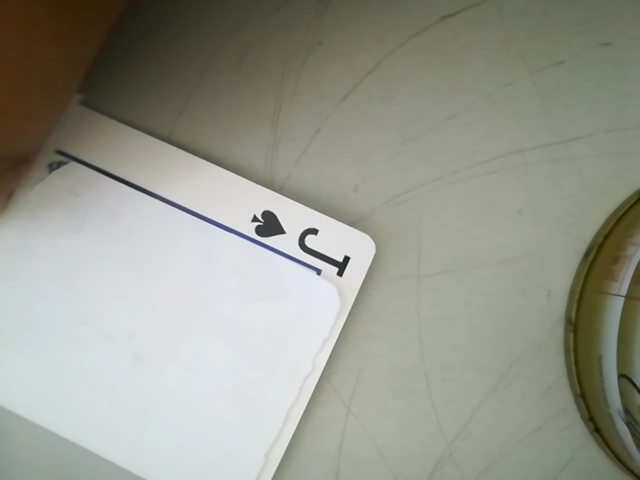ht j: (234, 205, 360, 273)
